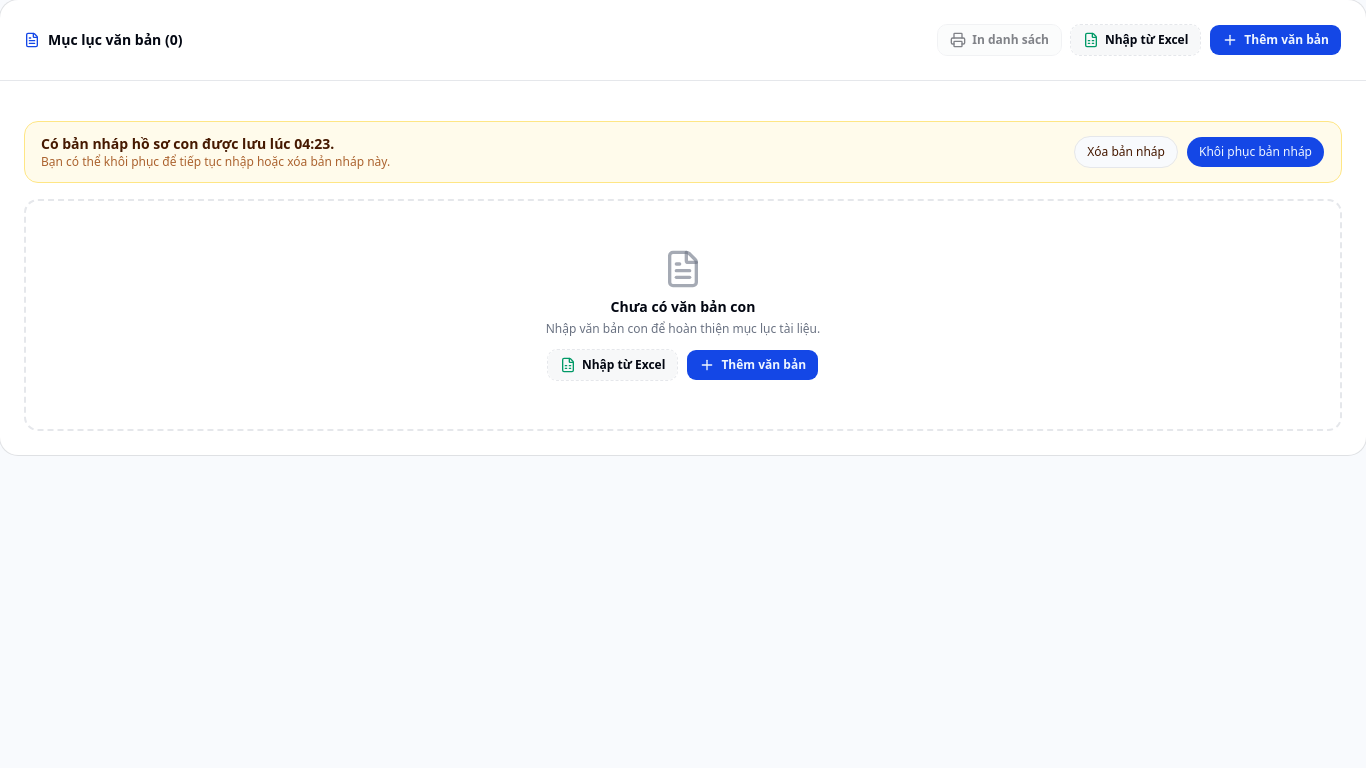
Scenario: ChildDocumentWorkspace drafts › restores a selected child profile draft
Click the button "Khôi phục bản nháp".
click(1256, 152)  # box x1=1186 y1=136 x2=1325 y2=168
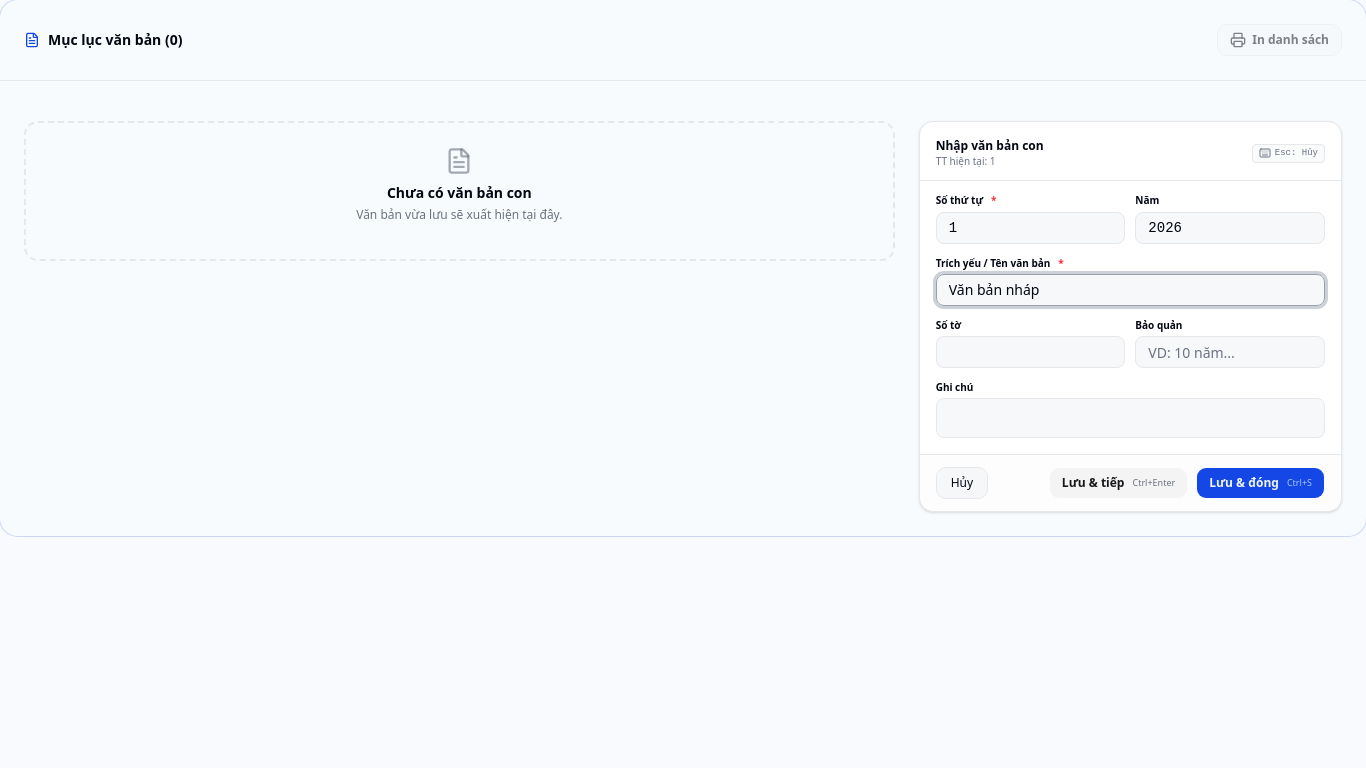
Check: the field labelled "Trích yếu / Tên văn bản *" holds "Văn bản nháp", box x1=936 y1=274 x2=1325 y2=306
